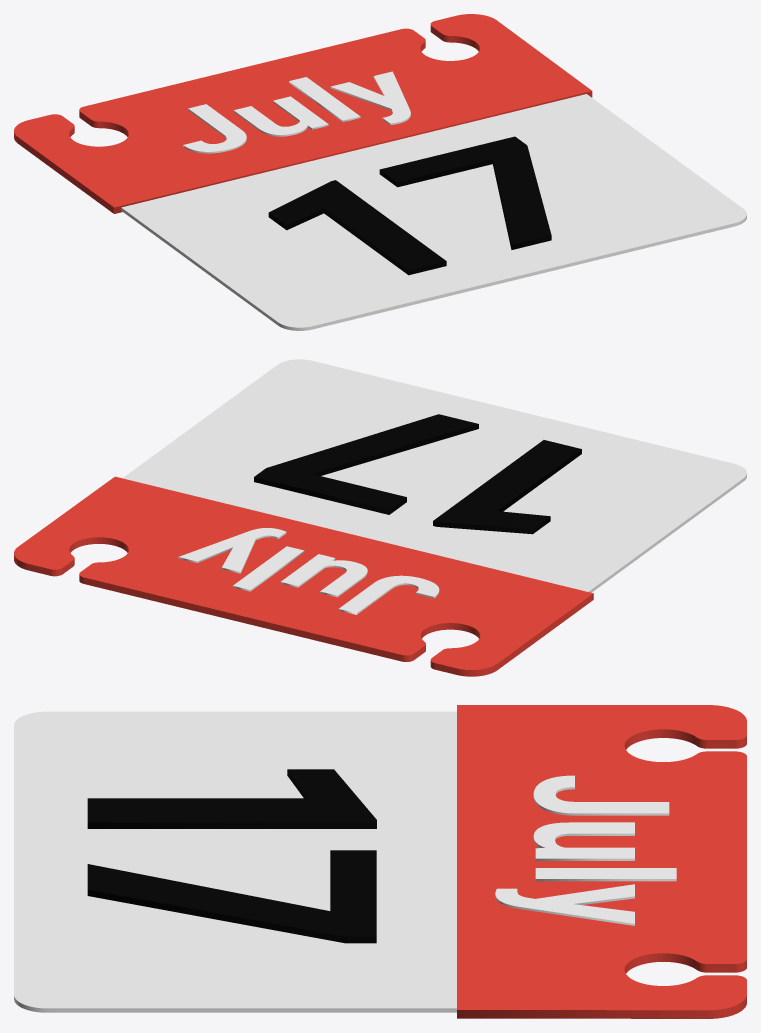
The model's file is emoji_u1f4c5.glb.
The picture shows the model from 3 angles, top to bottom: view 1: azimuth 30°, elevation 25°; view 2: azimuth 150°, elevation 25°; view 3: azimuth 270°, elevation 25°; orthographic projection. The views are drawn at different scales.
Parts seen in each view (by area): view 1: emoji_u1f4c5; view 2: emoji_u1f4c5; view 3: emoji_u1f4c5.
Boxes of the visible parts, x1,y1,x2,y2 form: emoji_u1f4c5: (14,14,746,330); emoji_u1f4c5: (14,359,746,676); emoji_u1f4c5: (14,705,746,1018).
Size of the model in its own units: 0.0304 by 0.0008 by 0.0308.
